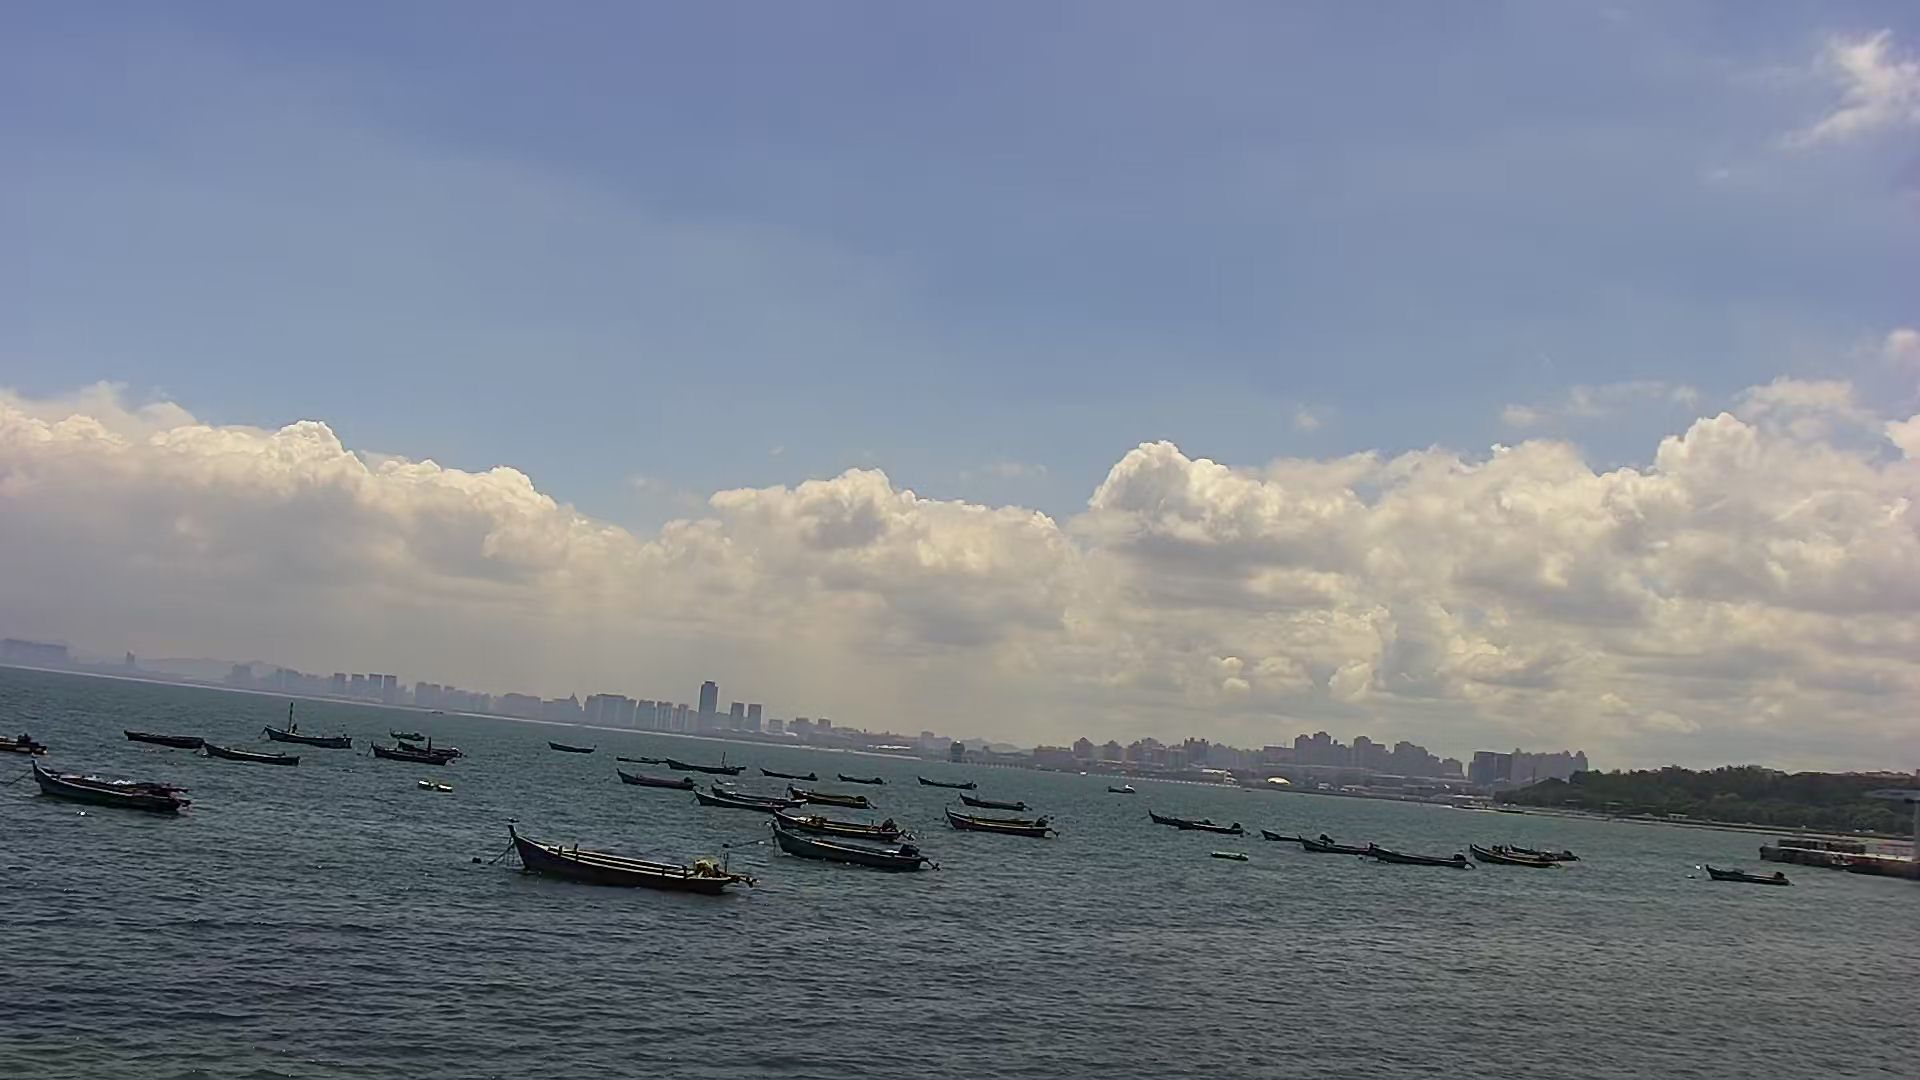boat: (487, 816, 749, 897), (29, 761, 203, 819), (773, 833, 935, 878), (1461, 829, 1596, 878), (1364, 839, 1481, 878), (262, 707, 357, 754), (943, 804, 1058, 843), (1696, 856, 1795, 895), (682, 782, 787, 818), (208, 736, 301, 771), (123, 720, 206, 756), (611, 767, 698, 799), (371, 738, 469, 766), (783, 785, 872, 811), (1294, 832, 1373, 861), (913, 767, 989, 796), (1139, 806, 1211, 832), (760, 761, 822, 790), (960, 791, 1034, 814), (538, 729, 597, 757), (833, 769, 894, 793), (688, 754, 749, 777), (1185, 822, 1254, 841), (611, 754, 682, 771), (1209, 849, 1253, 870), (1102, 779, 1138, 803), (385, 719, 425, 740)
rubbish: (402, 771, 460, 793)
